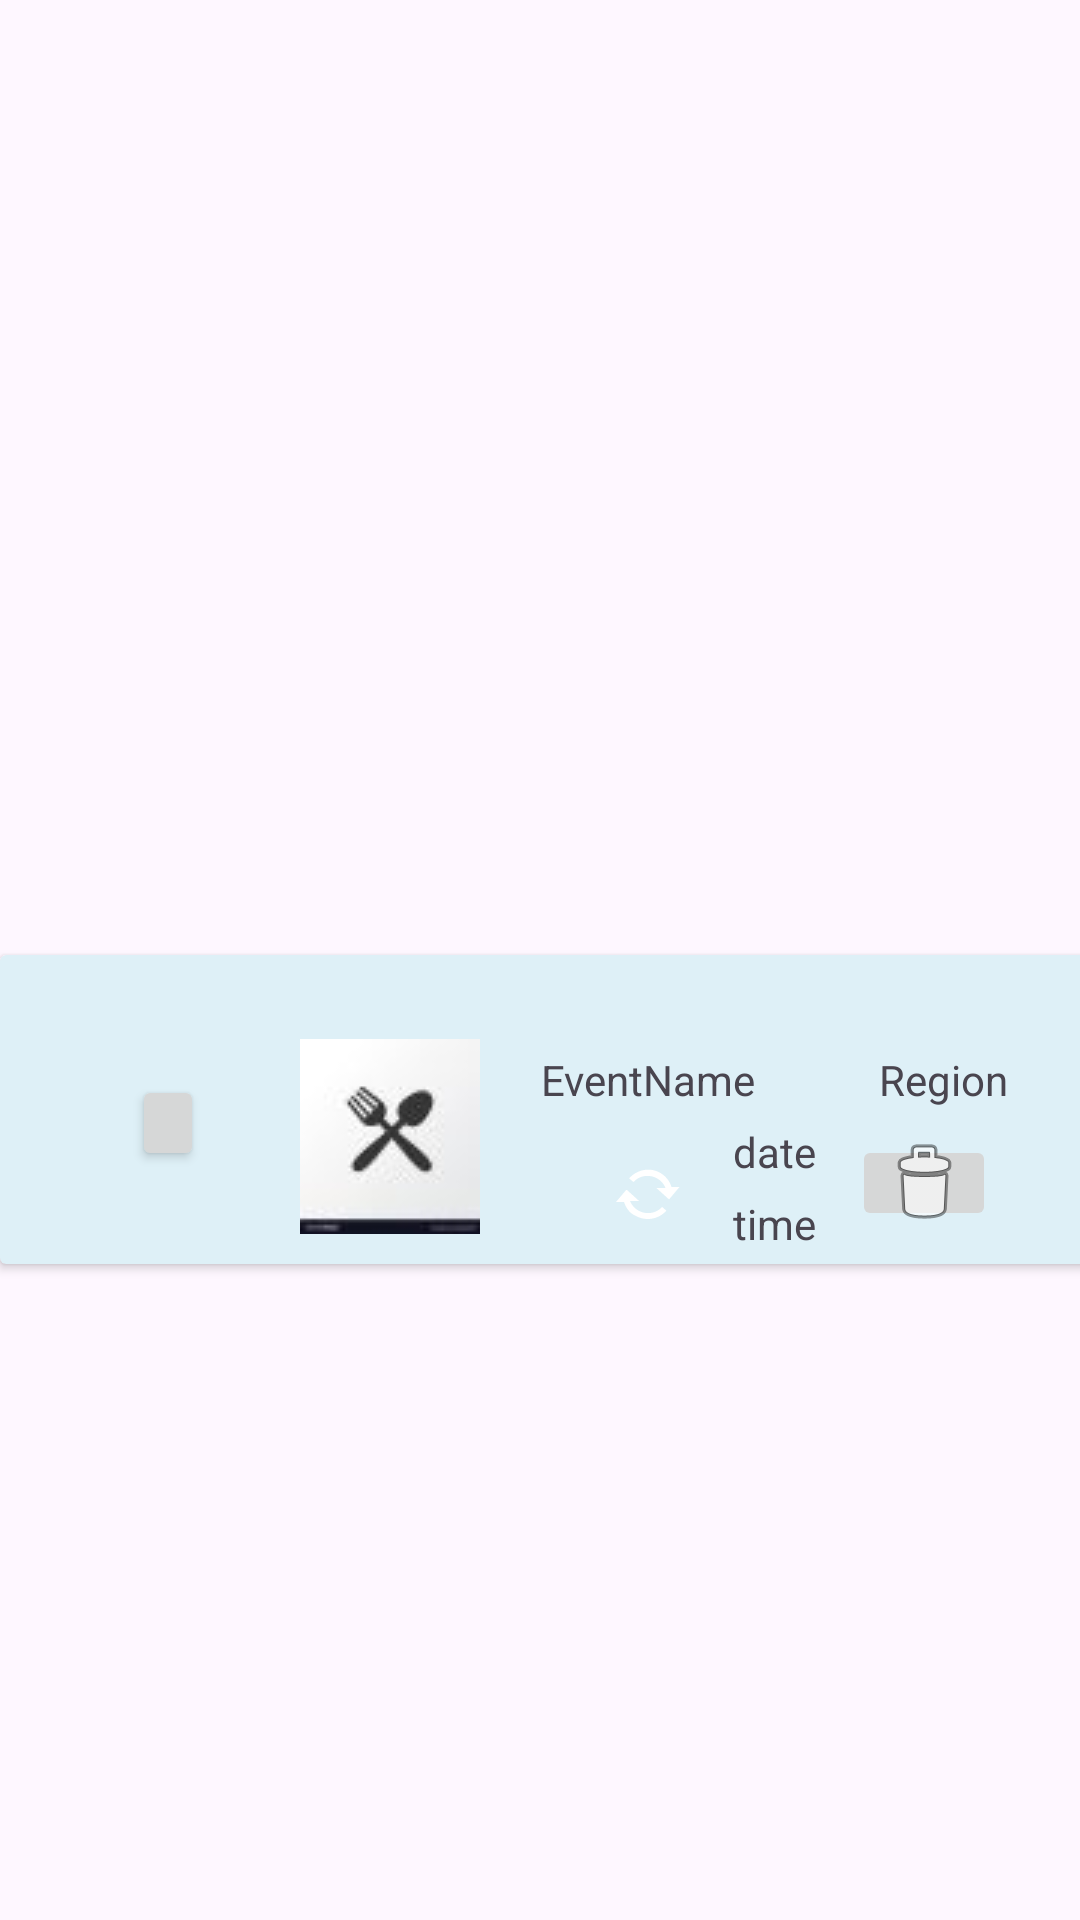

Locate icon controls on the screen. Image size 1080w x 1920h, boxes as bbox(x1, y1, x2, y2).
delete: bbox(864, 1144, 984, 1219)
eatingicon: bbox(300, 1039, 480, 1234)
sync: bbox(617, 1170, 679, 1219)
